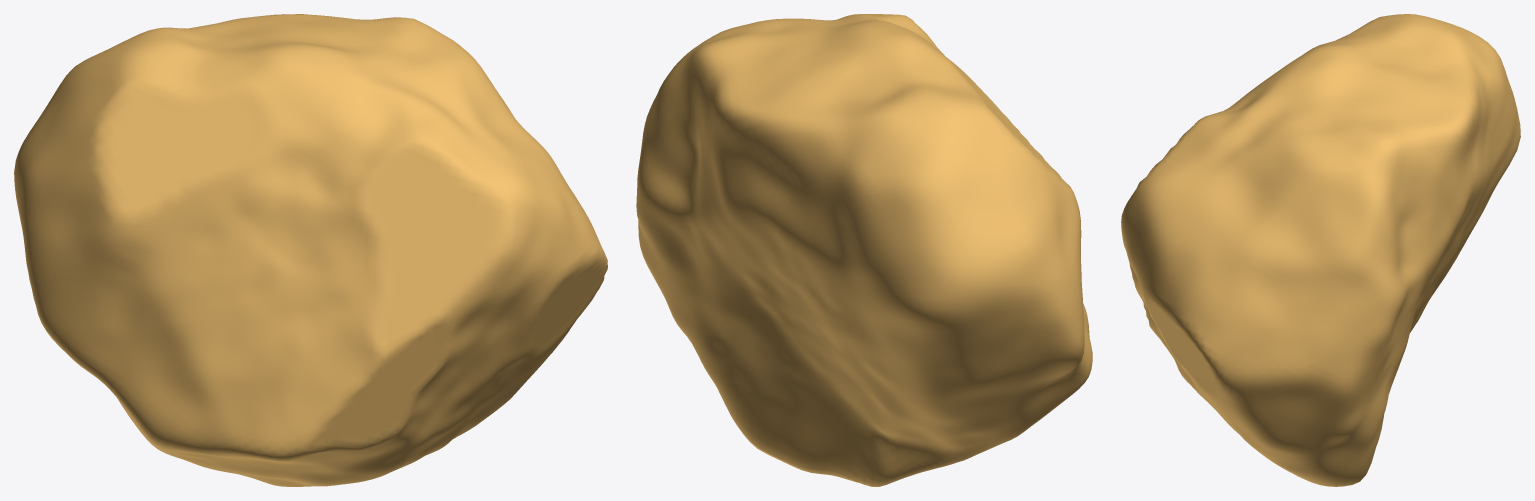
Rendered from nugget-07.glb.
3 renders of one model, left to right at view 1: azimuth 30°, elevation 25°; view 2: azimuth 150°, elevation 25°; view 3: azimuth 270°, elevation 25°, orthographic. The views are drawn at different scales.
Parts seen in each view (by area): view 1: nugget-07; view 2: nugget-07; view 3: nugget-07.
Part boxes in pixels (box(x1,y1,x2,y2)): nugget-07: box(14, 14, 607, 486); nugget-07: box(636, 14, 1092, 486); nugget-07: box(1121, 14, 1520, 486).
Size of the model in its own units: 3.7 by 3.3 by 3.05.
